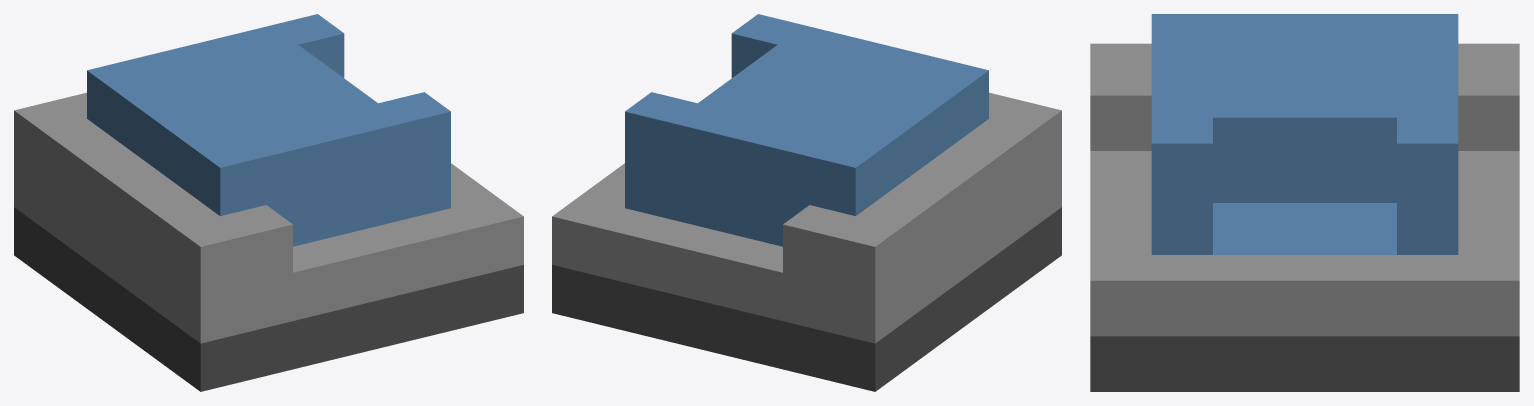
The model's file is WeaponTargetting#3.obj.
3 renders of one model, left to right at view 1: azimuth 30°, elevation 25°; view 2: azimuth 150°, elevation 25°; view 3: azimuth 270°, elevation 25°, orthographic. The views are drawn at different scales.
Size of the model in its own units: 0.7 by 0.5 by 0.7.
1 material, 1 textured.
